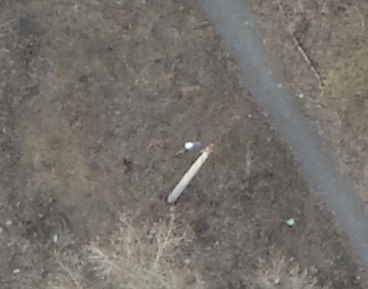opora: (167, 141, 216, 204)
